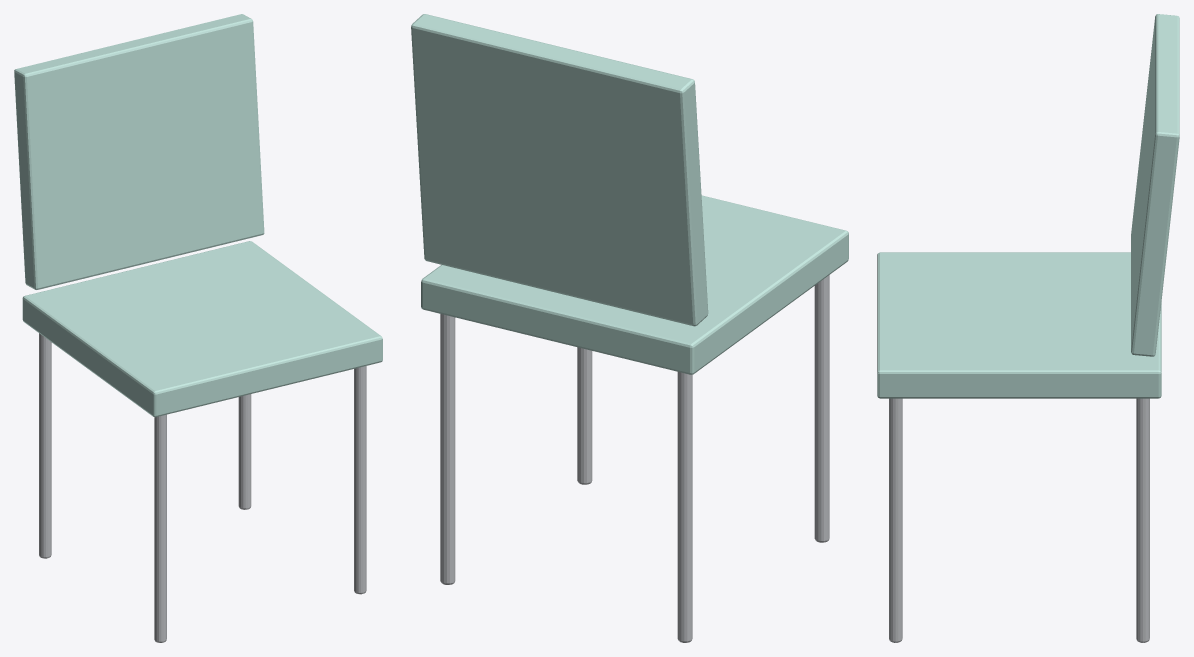
File: SM_MeetingChair.fbx
3 renders of one model, left to right at view 1: azimuth 30°, elevation 25°; view 2: azimuth 150°, elevation 25°; view 3: azimuth 270°, elevation 25°, orthographic. The views are drawn at different scales.
Visible parts, largest first — view 1: SM_MeetingChair; view 2: SM_MeetingChair; view 3: SM_MeetingChair.
Part boxes in pixels (x1,y1,x2,y2): SM_MeetingChair: (14,14,382,642); SM_MeetingChair: (411,14,848,642); SM_MeetingChair: (877,14,1179,642).
Size of the model in its own units: 0.46 by 0.9205 by 0.4894.
